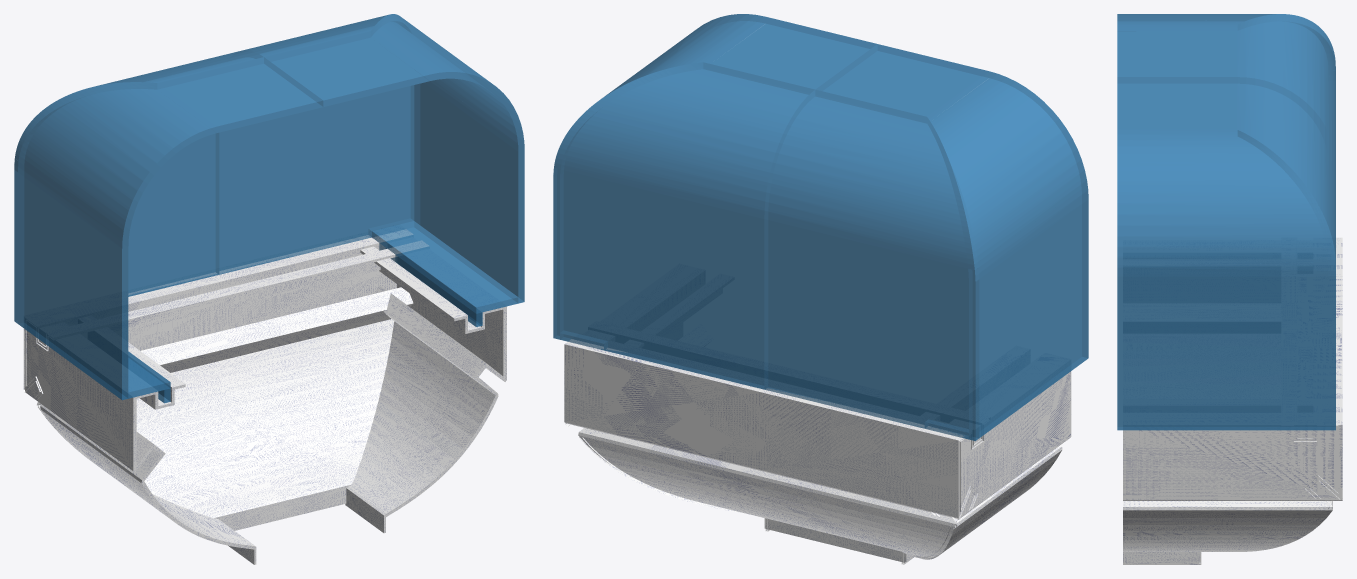
Rendered from 1_Module_end.fbx.
The picture shows the model from 3 angles, left to right: view 1: azimuth 30°, elevation 25°; view 2: azimuth 150°, elevation 25°; view 3: azimuth 270°, elevation 25°; orthographic projection. The views are drawn at different scales.
Parts seen in each view (by area): view 1: Group1, skp75BB1; view 2: Group1, skp75BB1; view 3: Group1, skp75BB1.
Boxes of the visible parts, x1=… form: Group1: x1=14, y1=14, x2=524, y2=403; skp75BB1: x1=23, y1=229, x2=506, y2=564; Group1: x1=553, y1=14, x2=1088, y2=440; skp75BB1: x1=564, y1=339, x2=1071, y2=564; Group1: x1=1117, y1=14, x2=1335, y2=430; skp75BB1: x1=1123, y1=237, x2=1342, y2=564.
Size of the model in its own units: 38.3 by 40.93 by 18.34.
